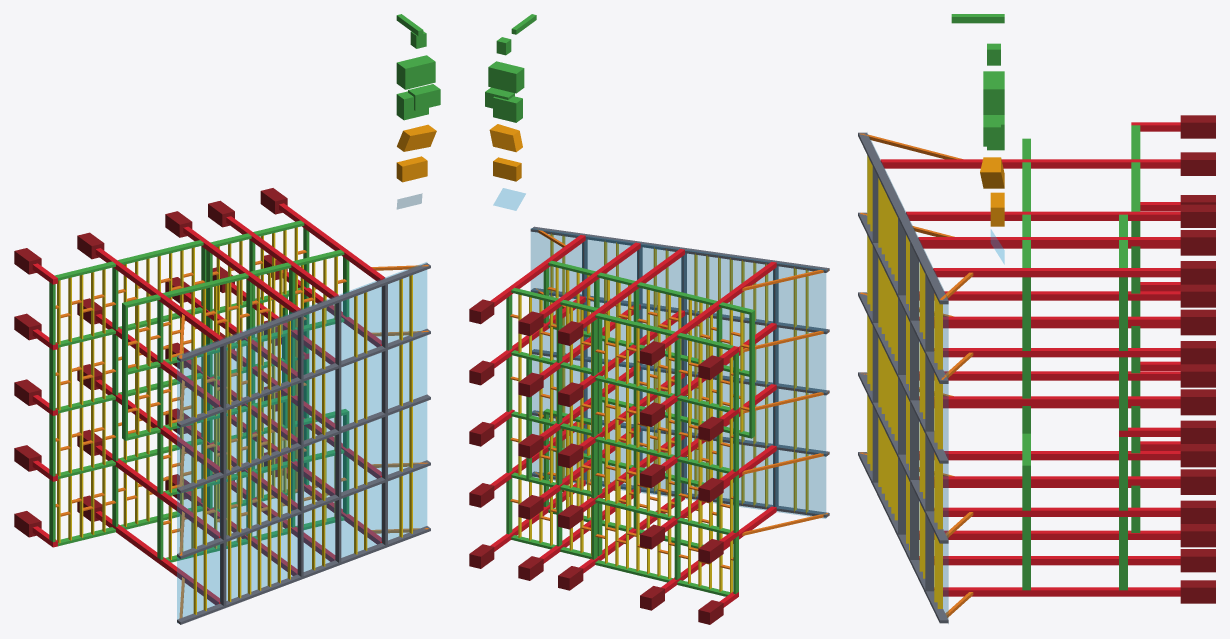
File: tinker.obj
The picture shows the model from 3 angles, left to right: view 1: azimuth 30°, elevation 25°; view 2: azimuth 150°, elevation 25°; view 3: azimuth 270°, elevation 25°; orthographic projection. The views are drawn at different scales.
Visible parts, largest first — view 1: obj_424, obj_1, obj_420, obj_2, obj_20, obj_15, obj_421, obj_3, obj_4, obj_11, obj_6, obj_419 (+10 smaller); view 2: obj_424, obj_1, obj_420, obj_2, obj_421, obj_3, obj_4, obj_419, obj_20, obj_15, obj_7, obj_21 (+13 smaller); view 3: obj_1, obj_2, obj_3, obj_4, obj_23, obj_18, obj_9, obj_13, obj_8, obj_17, obj_22, obj_16 (+60 smaller).
Part boxes in pixels (x1=…): obj_424: x1=177, y1=262, x2=426, y2=623; obj_1: x1=95, y1=248, x2=223, y2=341; obj_420: x1=396, y1=84, x2=440, y2=120; obj_2: x1=183, y1=226, x2=300, y2=312; obj_20: x1=95, y1=511, x2=220, y2=604; obj_15: x1=95, y1=445, x2=220, y2=539; obj_421: x1=396, y1=55, x2=435, y2=89; obj_3: x1=226, y1=216, x2=338, y2=298; obj_4: x1=279, y1=203, x2=384, y2=281; obj_11: x1=95, y1=379, x2=220, y2=473; obj_6: x1=95, y1=314, x2=220, y2=407; obj_419: x1=397, y1=124, x2=436, y2=151; obj_424: x1=531, y1=228, x2=825, y2=518; obj_1: x1=661, y1=261, x2=776, y2=348; obj_420: x1=485, y1=87, x2=522, y2=122; obj_2: x1=579, y1=249, x2=684, y2=328; obj_421: x1=488, y1=61, x2=524, y2=93; obj_3: x1=539, y1=242, x2=640, y2=318; obj_4: x1=490, y1=235, x2=585, y2=306; obj_419: x1=489, y1=124, x2=522, y2=152; obj_20: x1=661, y1=506, x2=776, y2=593; obj_15: x1=661, y1=445, x2=776, y2=532; obj_7: x1=579, y1=310, x2=684, y2=389; obj_21: x1=579, y1=496, x2=684, y2=573; obj_1: x1=880, y1=159, x2=1180, y2=168; obj_2: x1=906, y1=211, x2=1180, y2=220; obj_3: x1=918, y1=237, x2=1180, y2=246; obj_4: x1=933, y1=268, x2=1180, y2=277; obj_23: x1=934, y1=587, x2=1180, y2=596; obj_18: x1=934, y1=507, x2=1180, y2=516; obj_9: x1=934, y1=348, x2=1180, y2=357; obj_13: x1=919, y1=396, x2=1180, y2=405; obj_8: x1=919, y1=316, x2=1180, y2=325; obj_17: x1=919, y1=476, x2=1180, y2=485; obj_22: x1=919, y1=556, x2=1180, y2=565; obj_16: x1=919, y1=451, x2=1180, y2=460.
Size of the model in its own units: 132 by 192 by 102.
